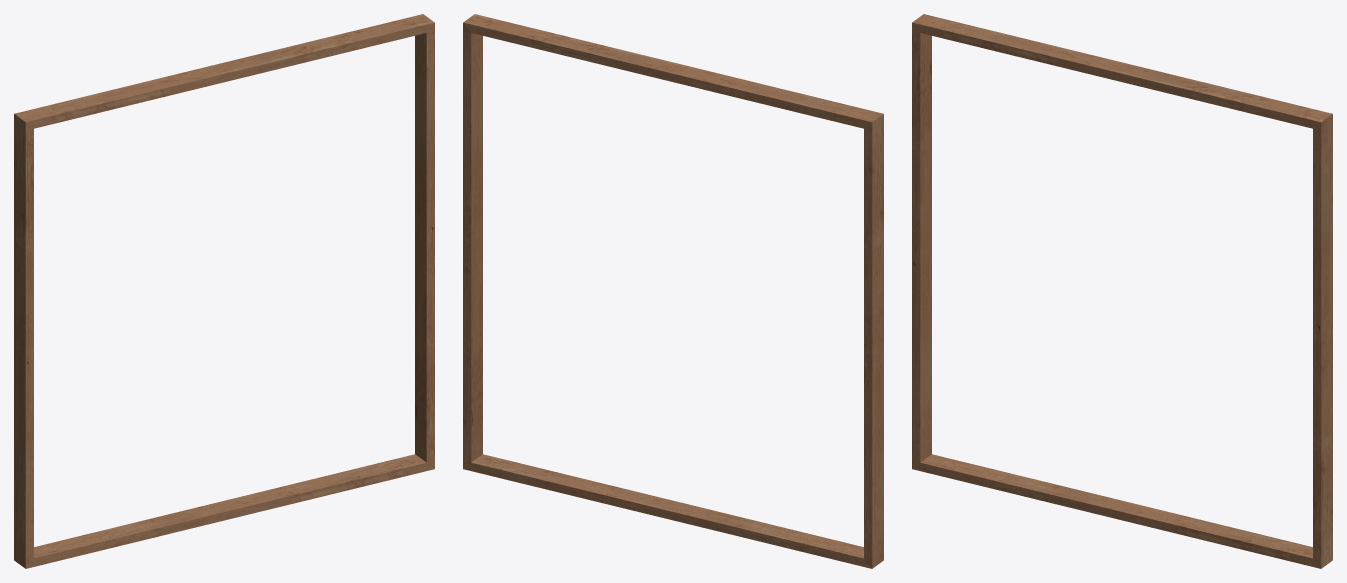
Rendered from SM_Gyedong_Frame_01A.fbx.
3 renders of one model, left to right at view 1: azimuth 30°, elevation 25°; view 2: azimuth 150°, elevation 25°; view 3: azimuth 330°, elevation 25°, orthographic.
Parts seen in each view (by area): view 1: SM_Gyedong_Frame_01A; view 2: SM_Gyedong_Frame_01A; view 3: SM_Gyedong_Frame_01A.
Boxes of the visible parts, x1,y1,x2,y2 form: SM_Gyedong_Frame_01A: (14, 14, 434, 568); SM_Gyedong_Frame_01A: (463, 14, 883, 568); SM_Gyedong_Frame_01A: (912, 14, 1332, 568).
Size of the model in its own units: 203 by 212 by 10.
